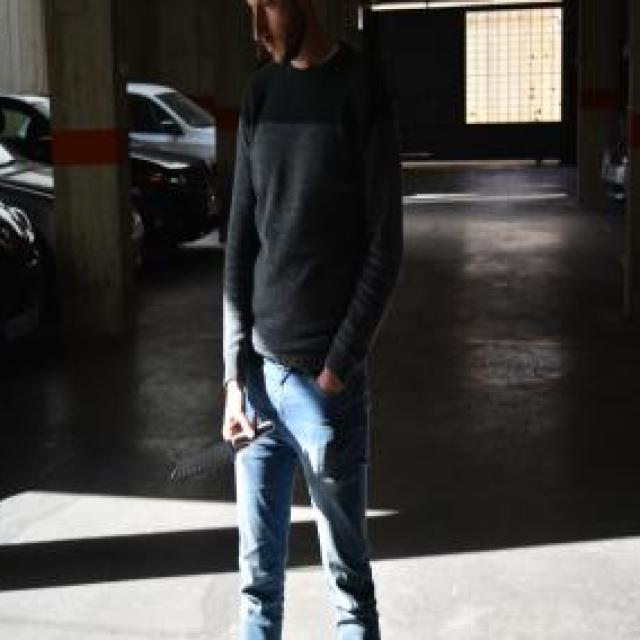knife: (167, 414, 277, 486)
